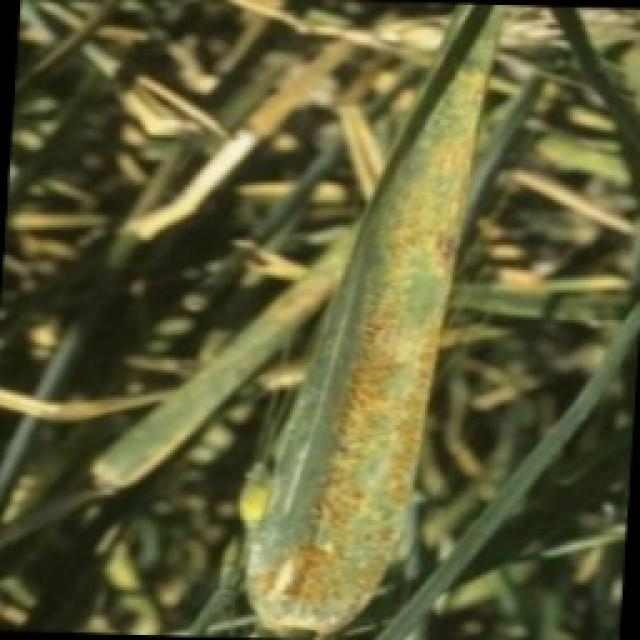Elderberry_rust: (298, 0, 470, 640)
